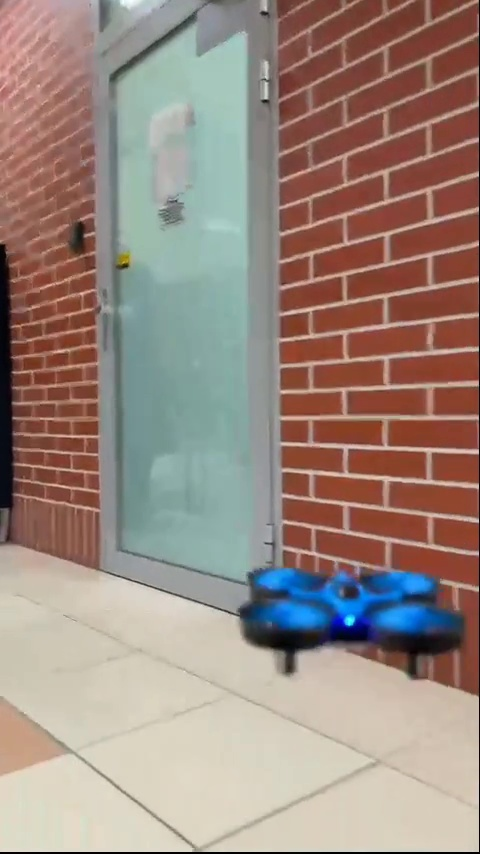drone: (234, 566, 471, 685)
